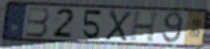2: (50, 8, 78, 39)
5: (81, 9, 102, 40)
9: (160, 11, 185, 45)
B: (24, 6, 51, 38)
H: (128, 10, 162, 43)
X: (104, 8, 134, 42)
